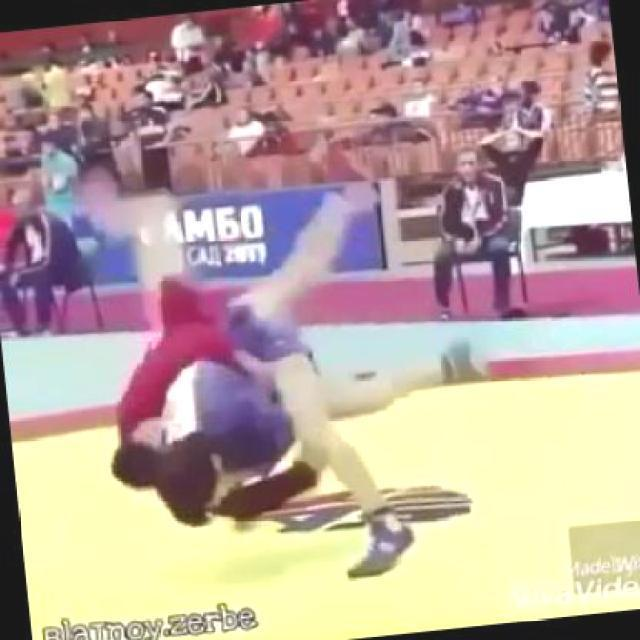fight: (56, 134, 504, 602)
